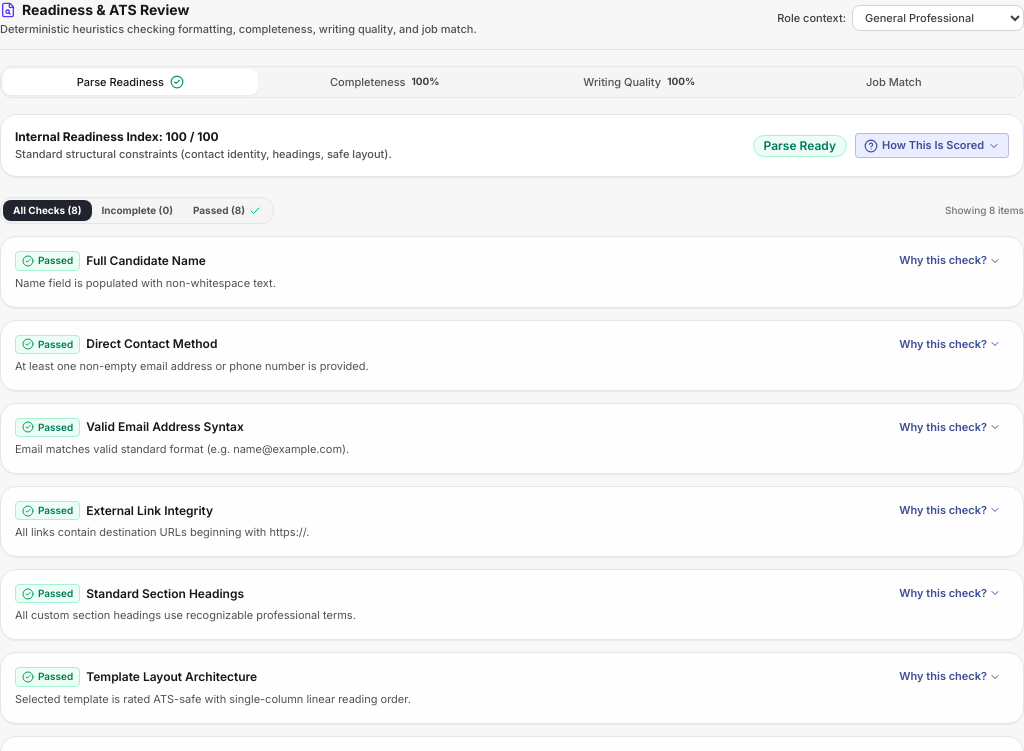
RS-095: UI Explainability & Accessibility › toggles 'How This Is Scored' card with accessible disclosure semantics
Click to open
What coordinates should you click on to do the following:
click the button "How This Is Scored"
I would click on:
 (932, 146)
Its box is [855,133,1009,158].
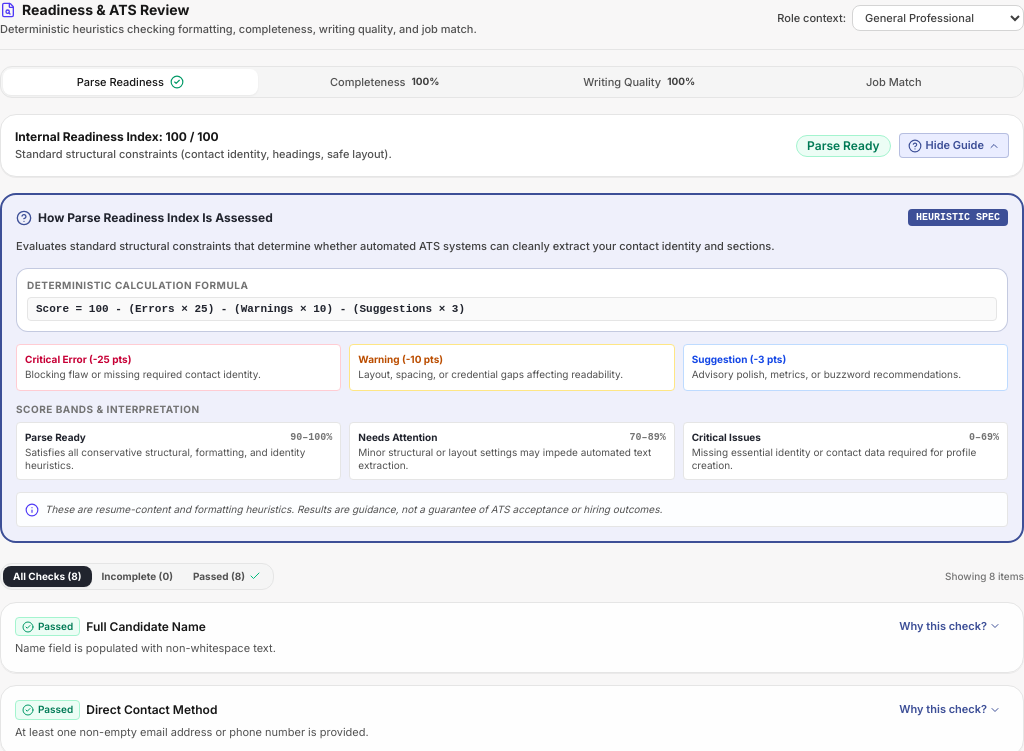
Expected: the button named "How This Is Scored" is expanded
Expected: the text "HEURISTIC SPEC" is shown, [908,209,1008,226]
Expected: the text "Deterministic Calculation Formula" is shown, [27,279,248,291]
Click to close
What coordinates should you click on to do the following:
click the button "Hide Guide"
I would click on:
 (954, 146)
Its box is [898,133,1009,158].
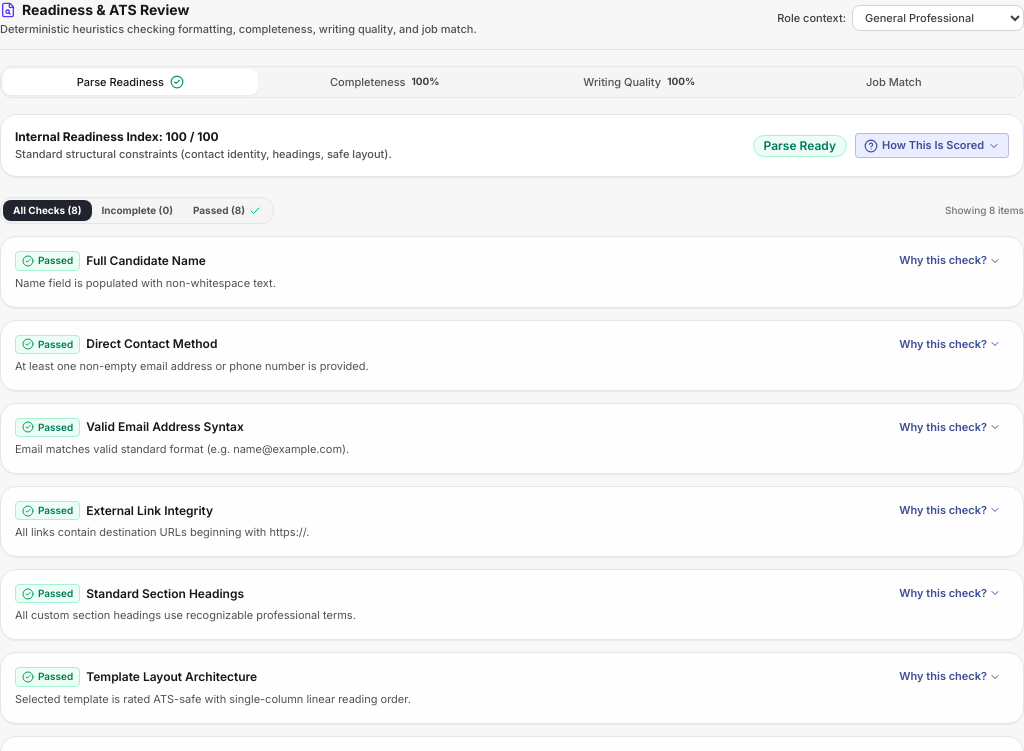
Expected: the button named "Hide Guide" is collapsed, [855,133,1009,158]
Expected: the text "HEURISTIC SPEC" is gone
